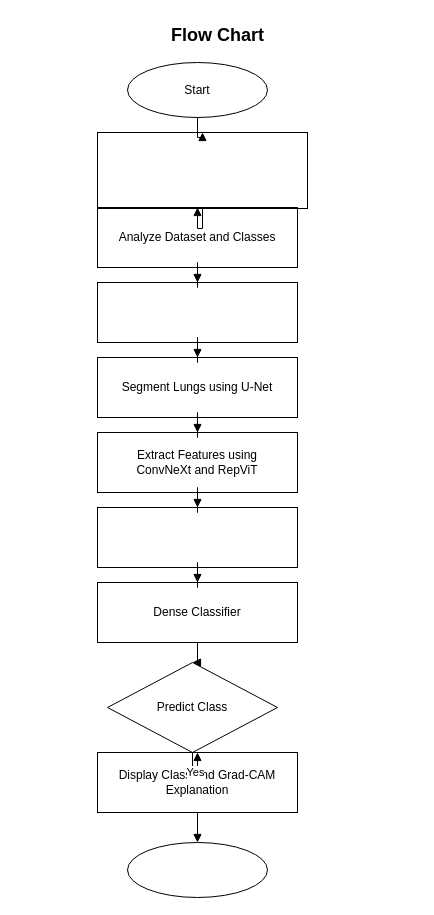
Some shapes in this 434 by 915 pixel diagram are drawn without their labels. The centre of each missing label's shape, as x and y in pixels:
"Collect Chest X-Ray Dataset" belongs at [202,170].
"End" belongs at [197,870].
"Fuse Features" belongs at [197,537].
"Resize to 224 × 224 and Normalize" belongs at [197,312].
